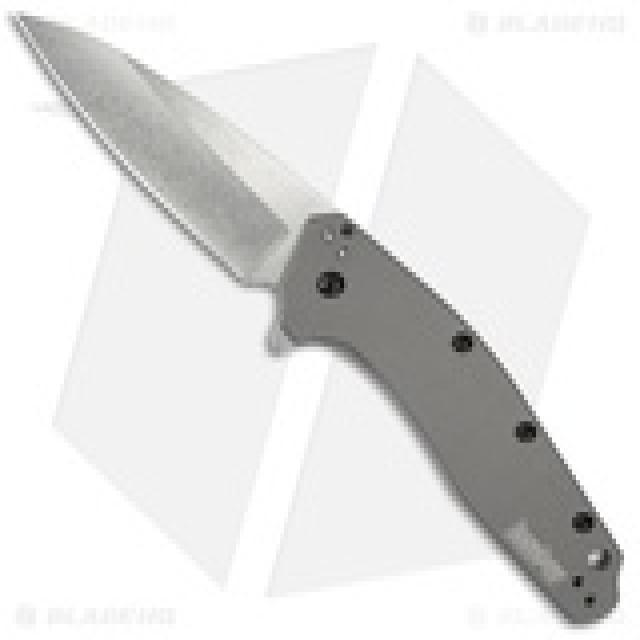Knife: (12, 8, 624, 620)
